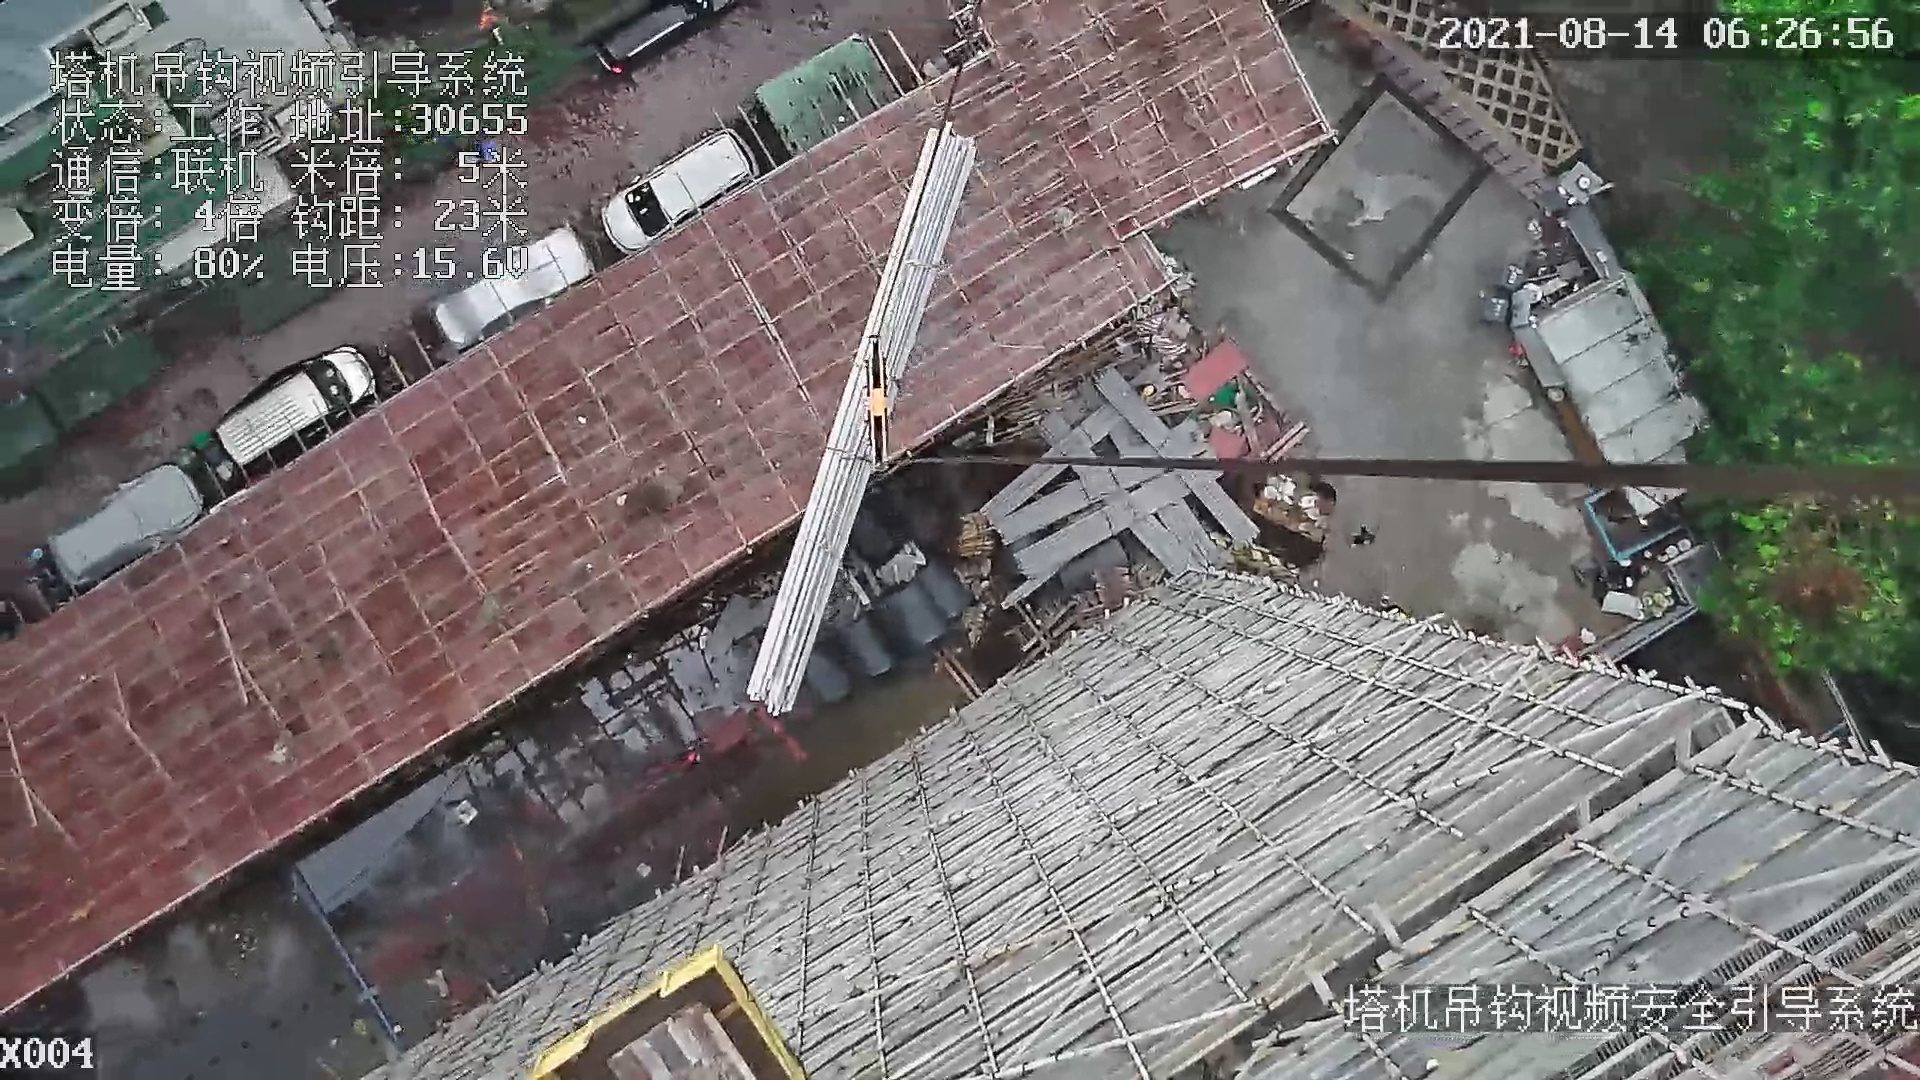hook: (858, 328, 900, 473)
person: (1349, 522, 1383, 550)
